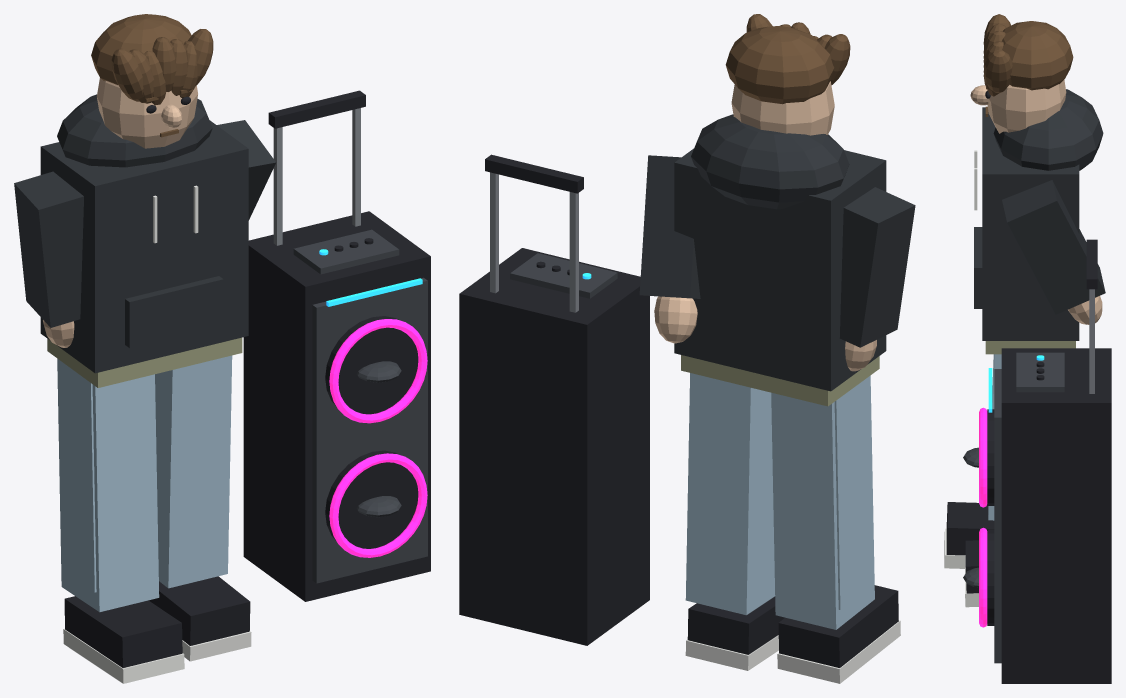
The model's file is tiki-performer.glb.
The picture shows the model from 3 angles, left to right: view 1: azimuth 30°, elevation 25°; view 2: azimuth 150°, elevation 25°; view 3: azimuth 270°, elevation 25°; orthographic projection. The views are drawn at different scales.
Visible parts, largest first — view 1: Blue LED strip, Bunched hood, Denim leg, Denim leg.001, Brow, Hand, Hand.001; view 2: Blue LED strip, Bunched hood, Denim leg, Denim leg.001, Brow, Hand, Hand.001; view 3: Blue LED strip, Bunched hood, Brow, Hand.001, Denim leg, Denim leg.001.
Boxes of the visible parts, <box> form: Blue LED strip: <box>243,90,430,601</box>; Bunched hood: <box>40,94,248,387</box>; Denim leg: <box>57,358,184,683</box>; Denim leg.001: <box>149,355,251,661</box>; Brow: <box>91,14,213,148</box>; Hand: <box>14,171,83,347</box>; Hand.001: <box>217,120,276,220</box>; Blue LED strip: <box>459,154,649,645</box>; Bunched hood: <box>674,114,886,406</box>; Denim leg: <box>771,375,900,683</box>; Denim leg.001: <box>685,373,784,670</box>; Brow: <box>725,14,850,135</box>; Hand: <box>839,187,915,371</box>; Hand.001: <box>639,155,700,343</box>; Blue LED strip: <box>963,239,1111,683</box>; Bunched hood: <box>974,89,1103,354</box>; Brow: <box>970,14,1073,133</box>; Hand.001: <box>1002,180,1105,324</box>; Denim leg: <box>944,354,998,568</box>; Denim leg.001: <box>965,354,1001,607</box>.
Bounding box in the file's own units: 1.24 × 1.88 × 0.5175.
